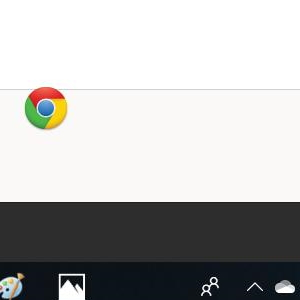chrome: (24, 86, 68, 131)
